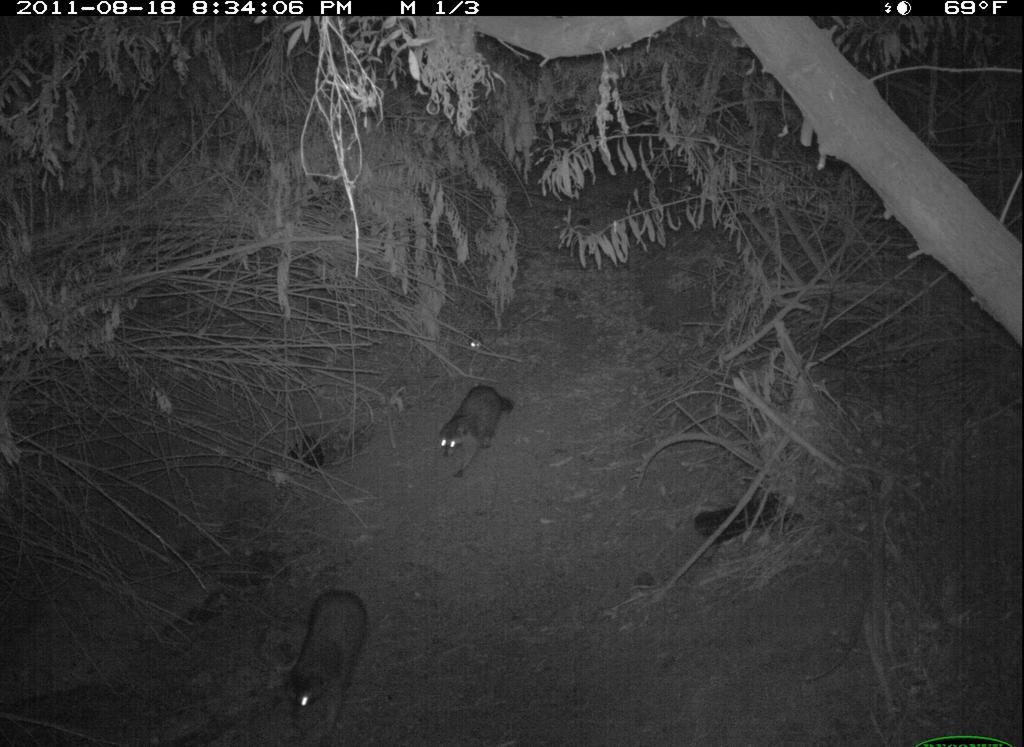raccoon: (271, 585, 382, 747), (431, 381, 524, 487)
